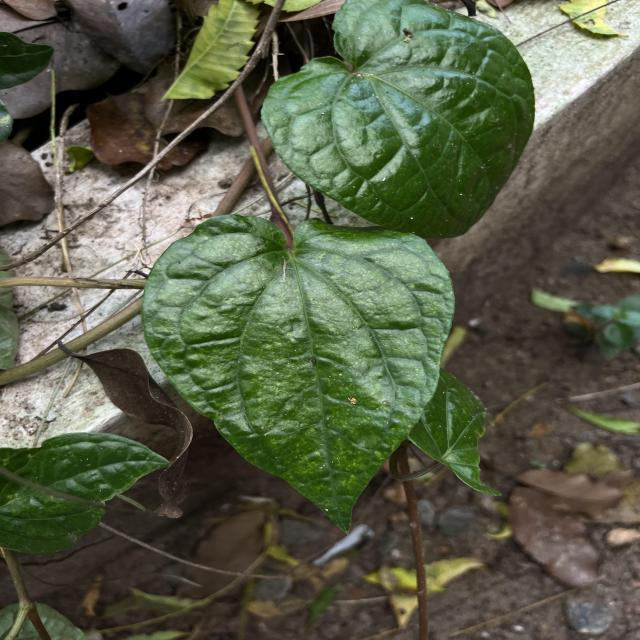Piper betle: (136, 208, 459, 540)
